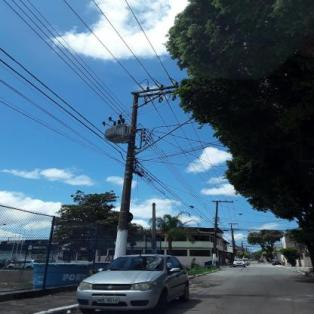Poste: (101, 87, 142, 255)
